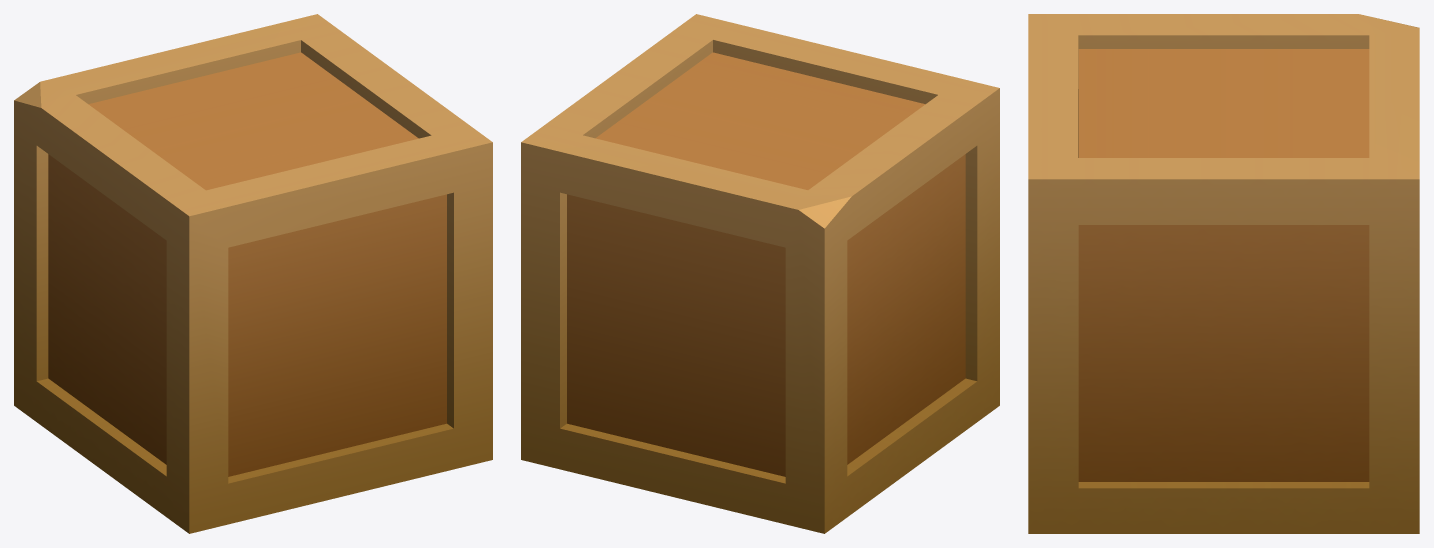
File: Crate_Small_B.fbx
The picture shows the model from 3 angles, left to right: view 1: azimuth 30°, elevation 25°; view 2: azimuth 150°, elevation 25°; view 3: azimuth 270°, elevation 25°; orthographic projection. The views are drawn at different scales.
Parts seen in each view (by area): view 1: Crate_Small_B; view 2: Crate_Small_B; view 3: Crate_Small_B.
Part boxes in pixels (x1,y1,x2,y2): Crate_Small_B: (14, 14, 492, 533); Crate_Small_B: (521, 14, 999, 533); Crate_Small_B: (1028, 14, 1419, 533).
Bounding box in the file's own units: 50.09 × 50.09 × 50.09.
